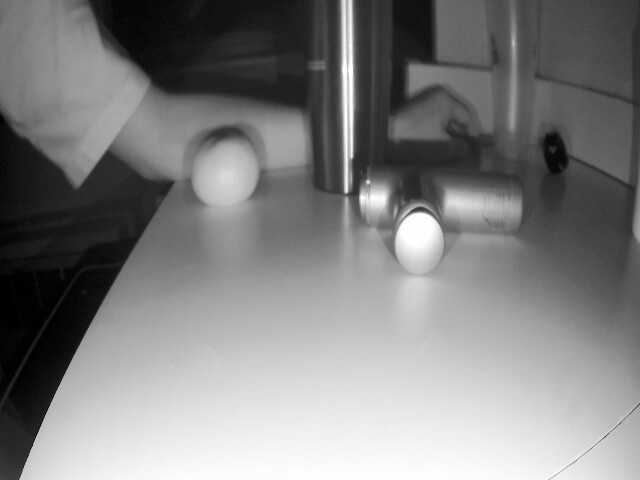black: (536, 132, 570, 166)
